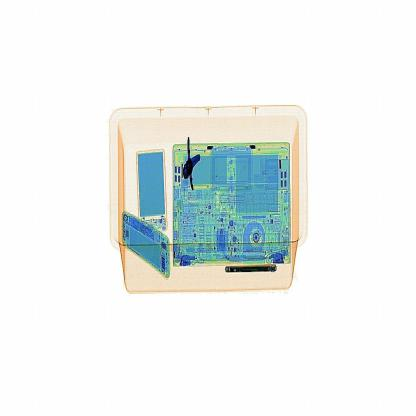wrench: (179, 130, 209, 207)
